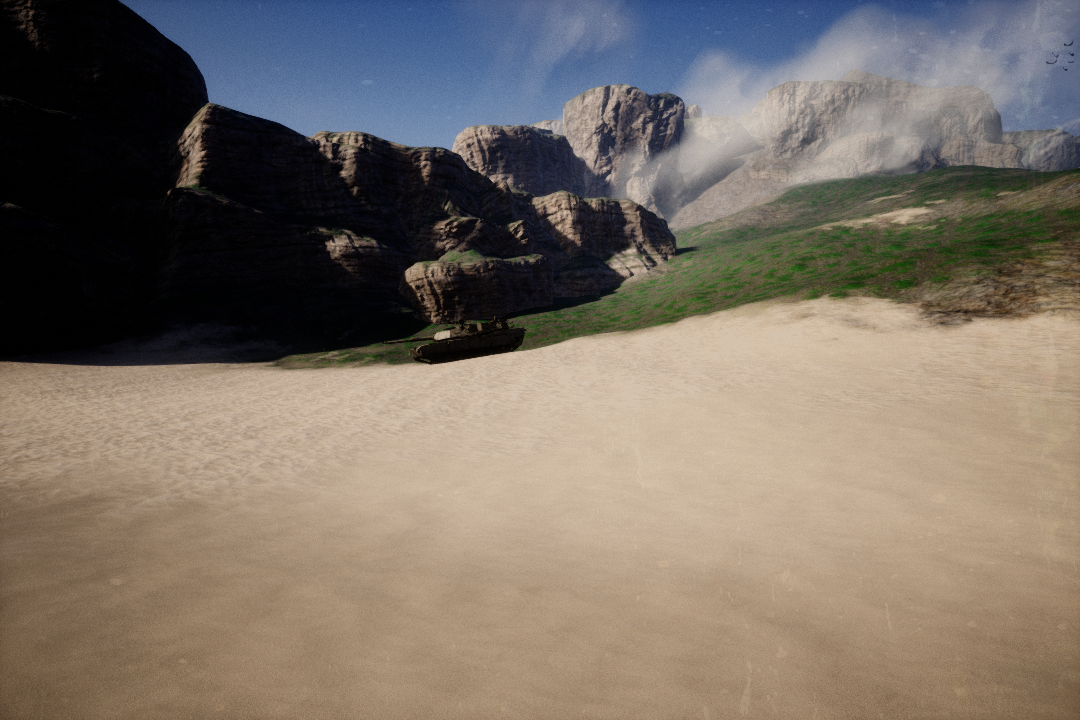tank: (395, 324, 529, 363)
